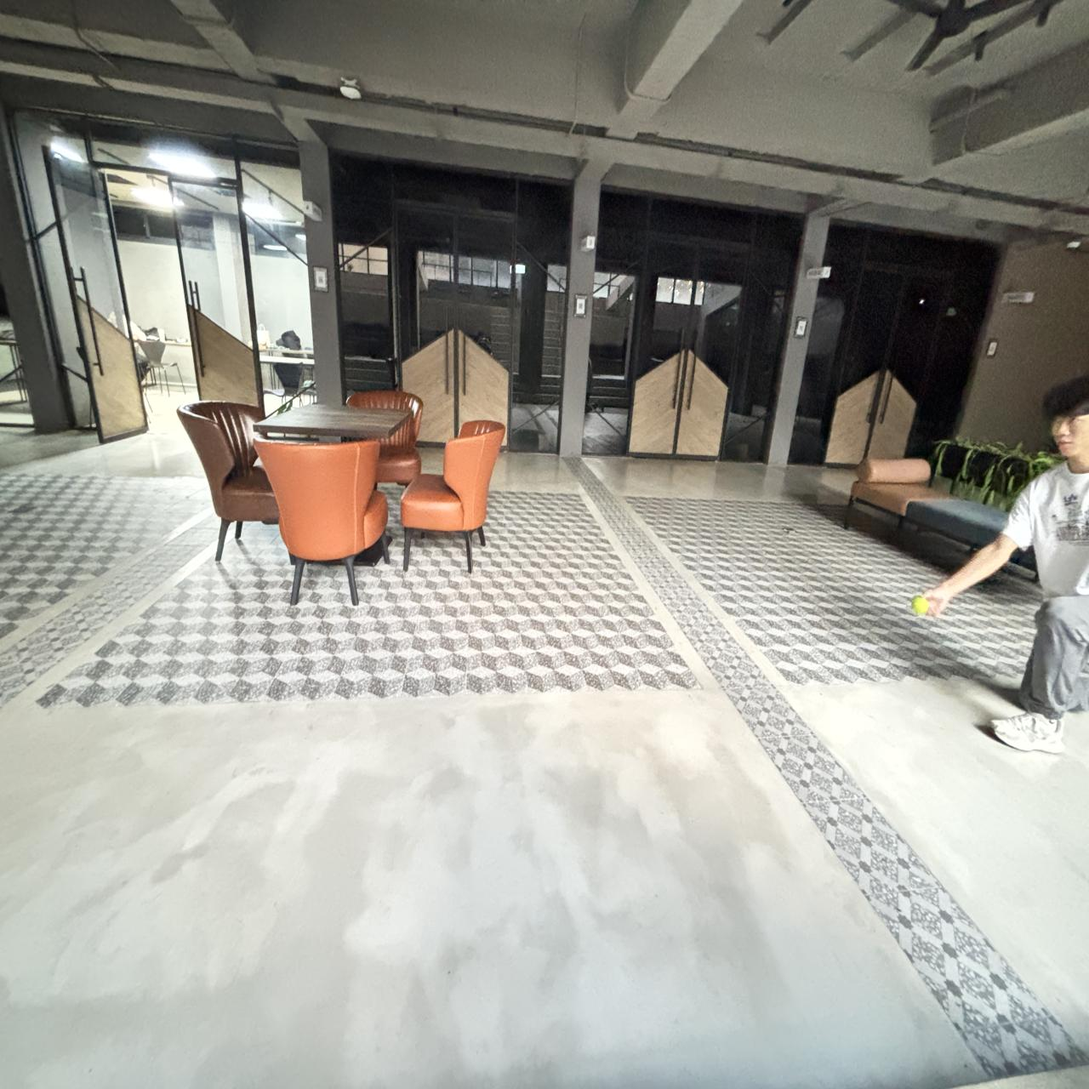person: (923, 375, 1088, 752)
tennisball: (911, 596, 929, 614)
